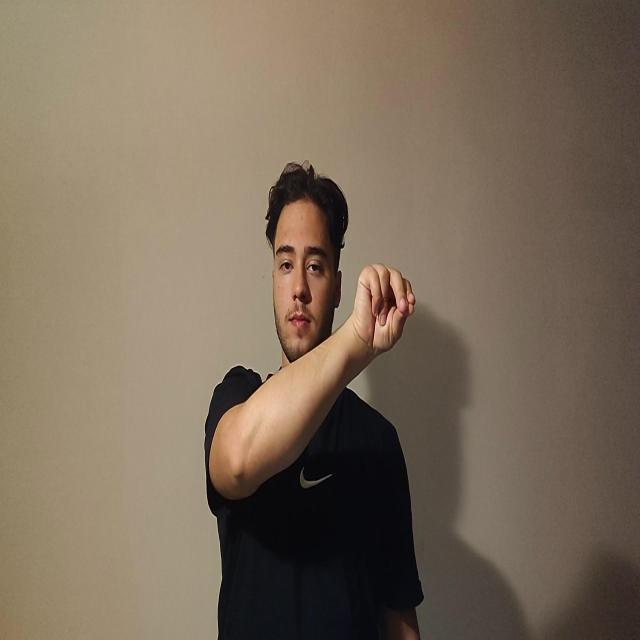no: (352, 262, 416, 356)
